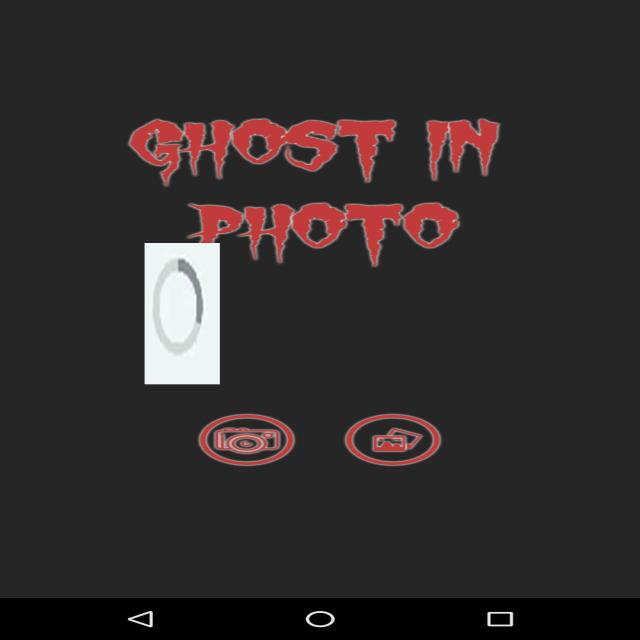misdirection: (144, 243, 220, 384)
